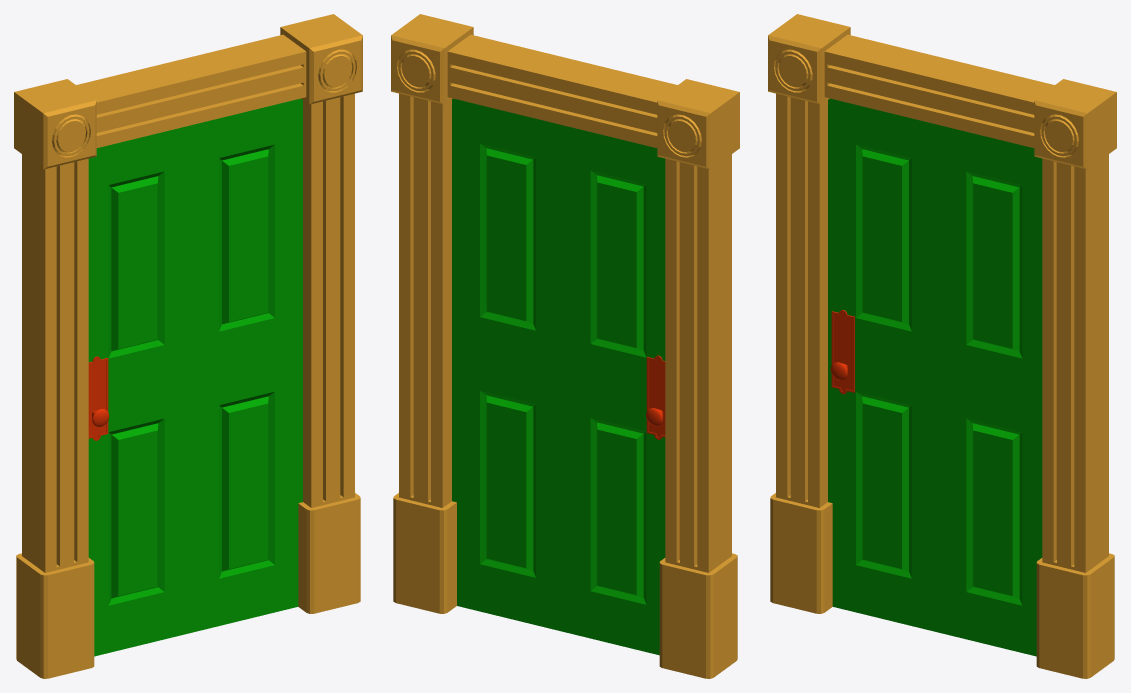
File: TWTTDoor.fbx
The picture shows the model from 3 angles, left to right: view 1: azimuth 30°, elevation 25°; view 2: azimuth 150°, elevation 25°; view 3: azimuth 330°, elevation 25°; orthographic projection.
Parts seen in each view (by area): view 1: Cube.002, Cube.001; view 2: Cube.002, Cube.001; view 3: Cube.002, Cube.001.
Boxes of the visible parts, left/top/right/bottom form: Cube.002: left=88, top=98, right=302, bottom=656; Cube.001: left=14, top=14, right=362, bottom=678; Cube.002: left=452, top=98, right=665, bottom=655; Cube.001: left=391, top=14, right=739, bottom=678; Cube.002: left=828, top=98, right=1042, bottom=656; Cube.001: left=768, top=14, right=1116, bottom=678.
Bounding box in the file's own units: 130 × 220 × 23.42.
